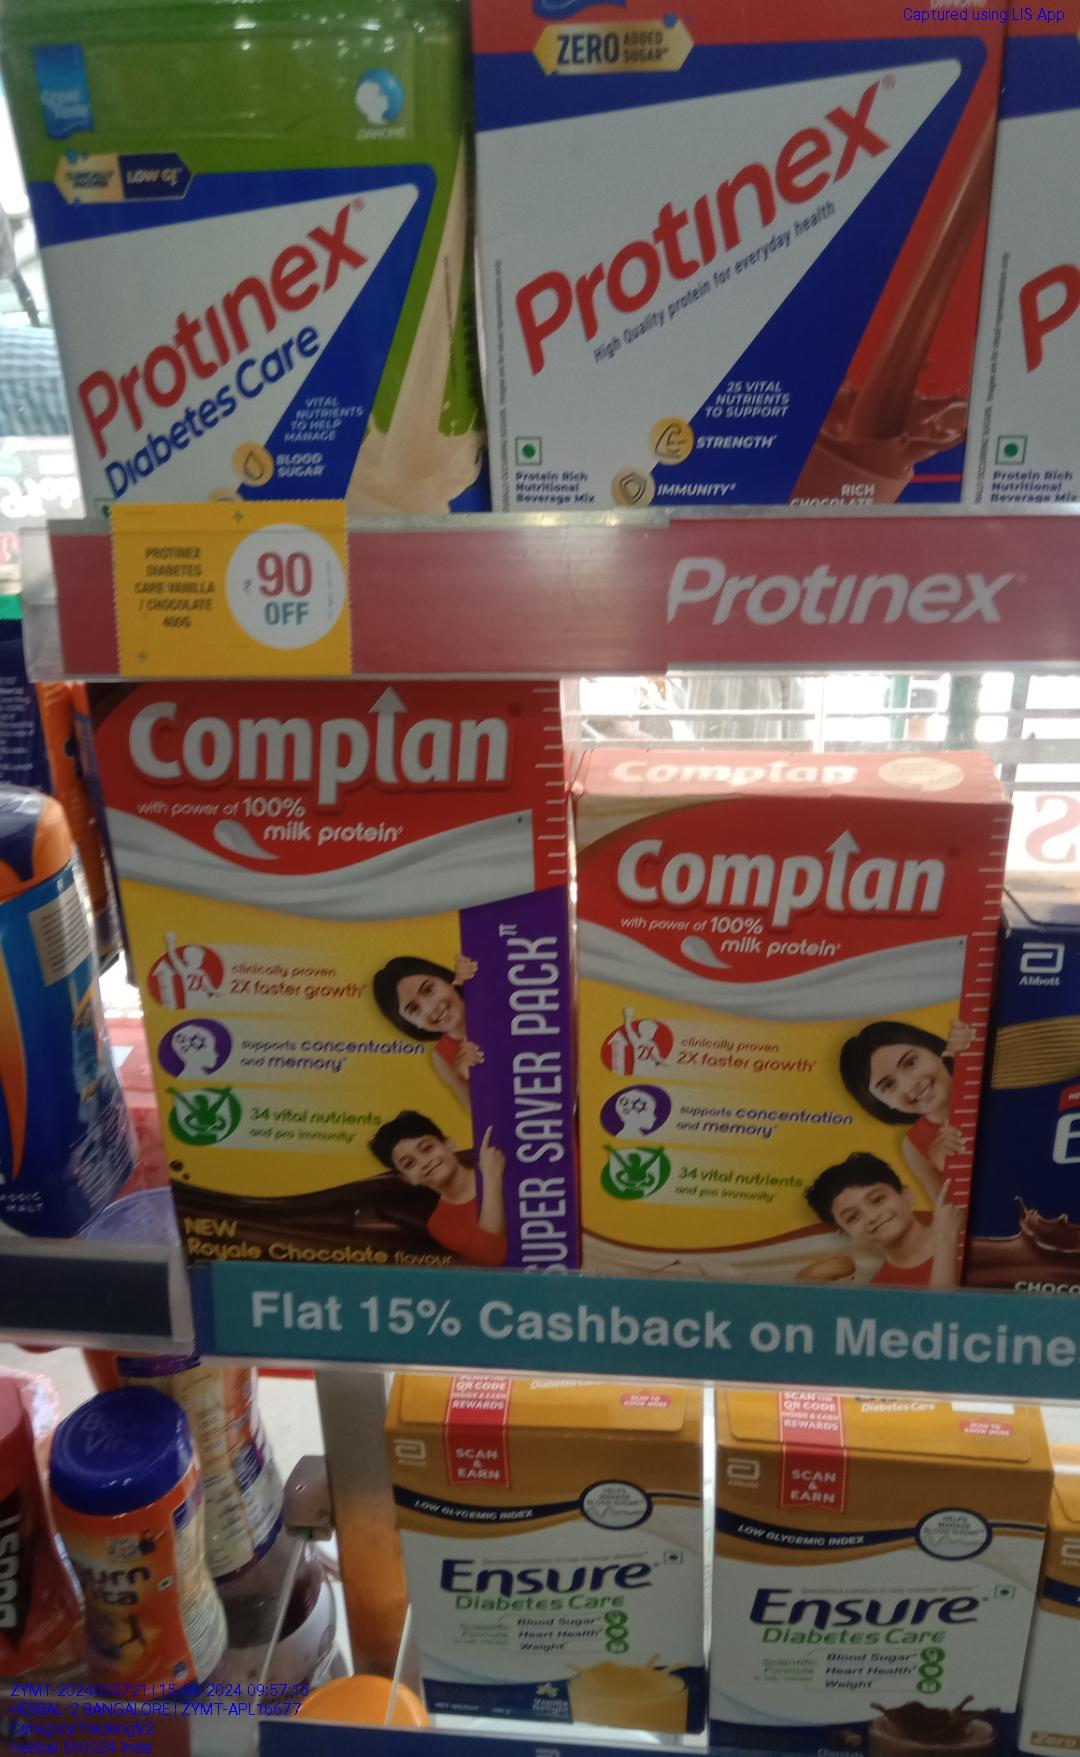COMPLAN_CHOCOLATE_1_KG_PACK: (99, 681, 559, 1247)
COMPLAN_KESAR_BADAM_500_GMS_PACK: (578, 791, 972, 1286)
